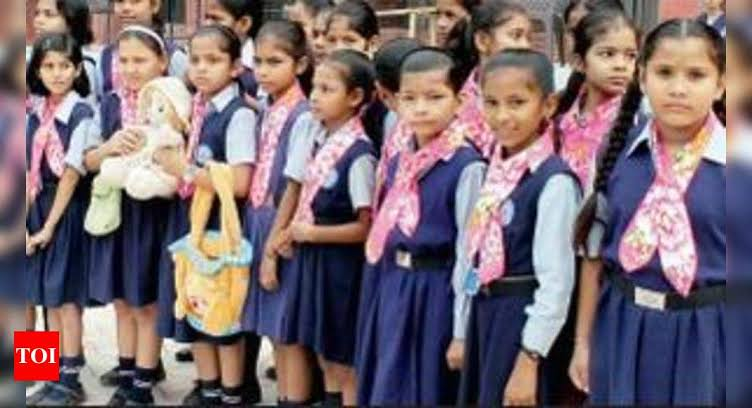student: (631, 16, 730, 134), (473, 49, 549, 149), (568, 9, 638, 100), (392, 51, 459, 136), (251, 22, 311, 98), (179, 29, 248, 94), (308, 50, 367, 123), (111, 24, 166, 93), (476, 3, 539, 62), (31, 34, 93, 93), (321, 5, 381, 61), (34, 2, 84, 40), (431, 8, 469, 49), (110, 1, 153, 27), (73, 35, 86, 36)
